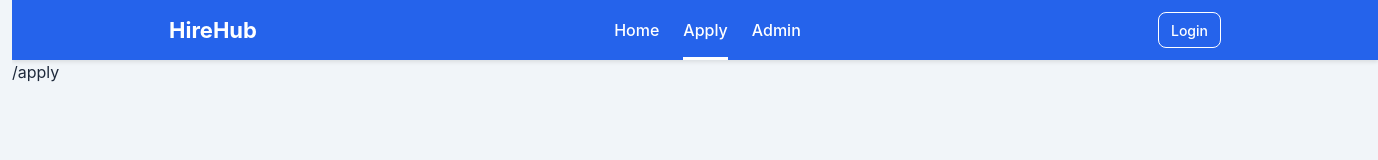
Test case: Header › follows the Login route without invoking logout
Click the link "Login": (1190, 30) [1158,12,1221,48]
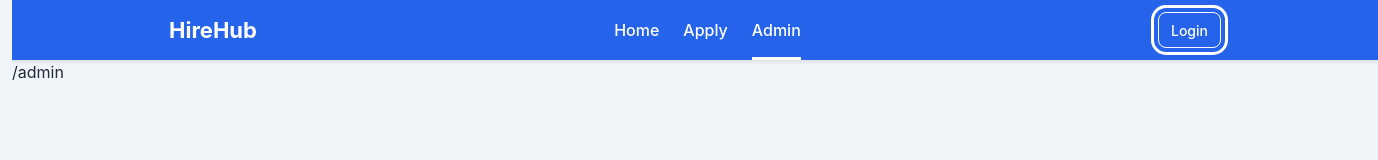
Now the text named "Current route" reads "/admin", box [12,62,64,82]
